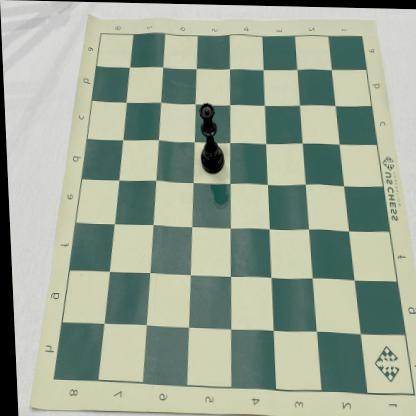black-queen: (196, 101, 224, 175)
